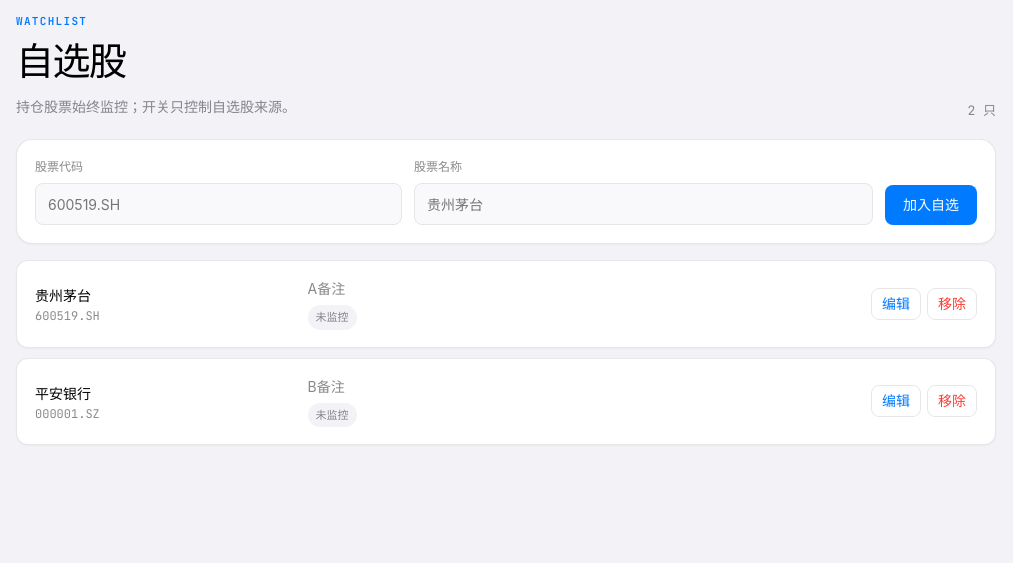
Test: WatchlistPage › merges a failure reload without reviving another code removed in flight
expect the text "贵州茅台" is shown: met, box [35,287,91,304]
Click the button with aria-label "编辑 贵州茅台".
click(896, 304)  # box [871,288,921,320]
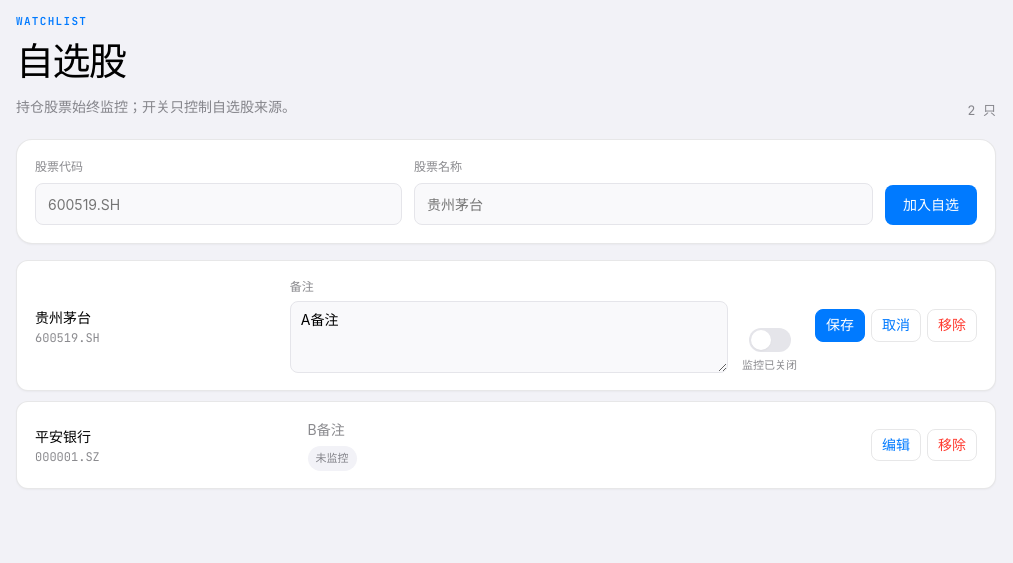
Click the button with aria-label "保存 贵州茅台".
click(840, 326)  # box [815,310,865,342]
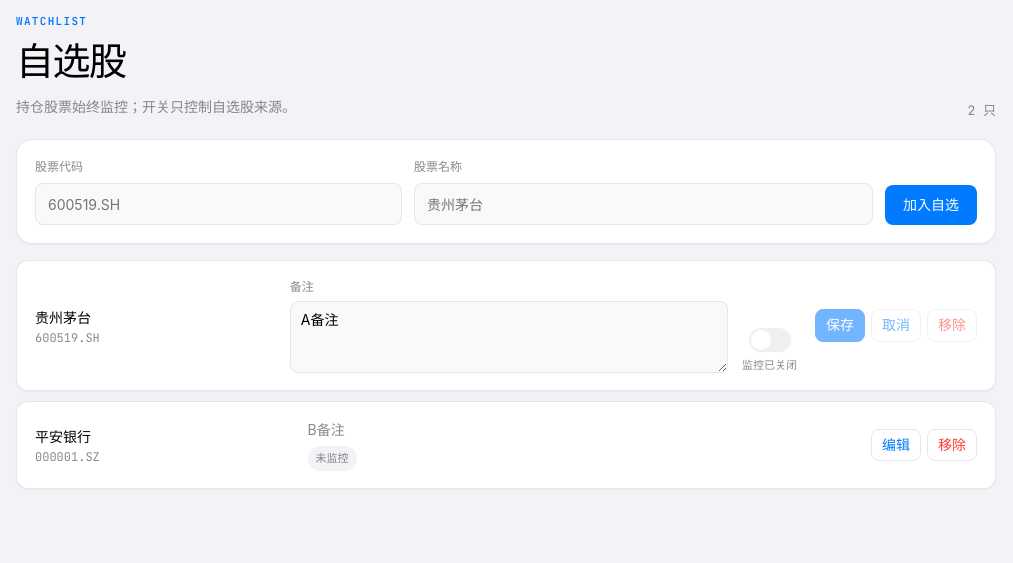
Click the button with aria-label "移除 平安银行".
click(952, 445)  # box [927,429,977,461]
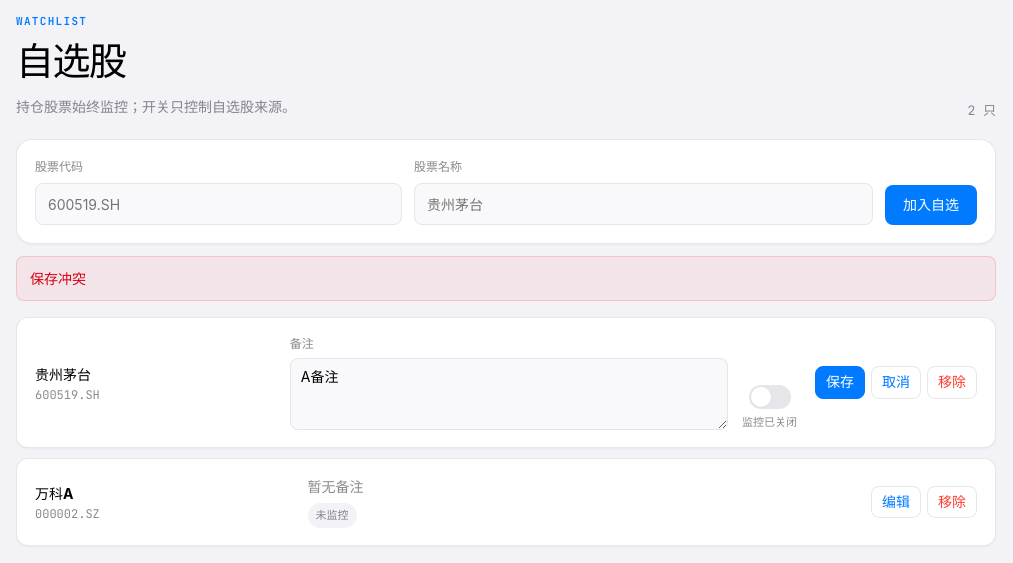
expect the text "平安银行" is gone: met
expect the text "万科A" is shown: met, box [35,485,74,502]
Click the button "取消".
click(896, 383)  # box [871,366,921,399]
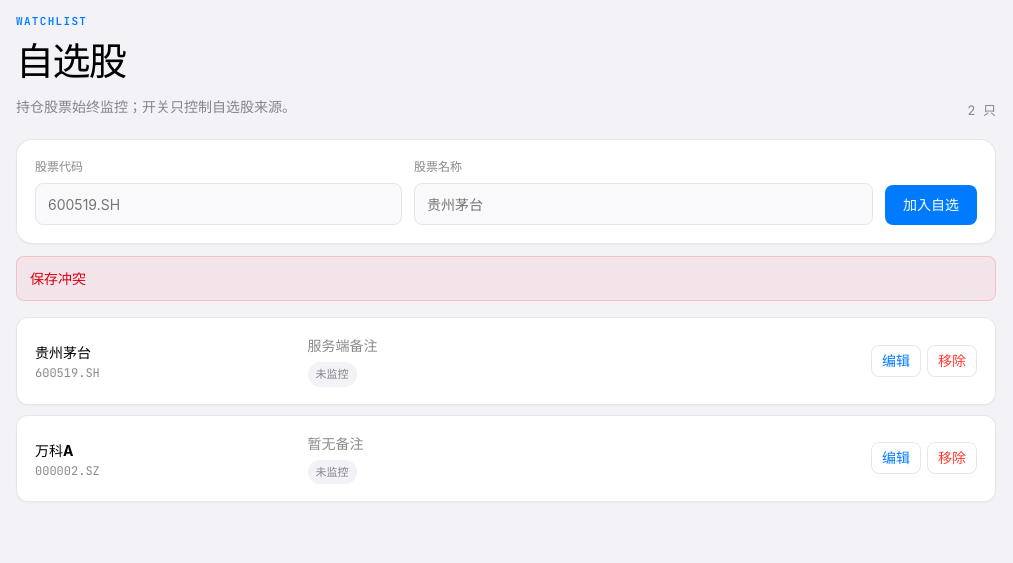
expect the text "平安银行" is not shown: met
expect the message reads "保存冲突": met, box [30,270,86,287]
expect the text "服务端备注" is shown: met, box [308,337,378,354]
